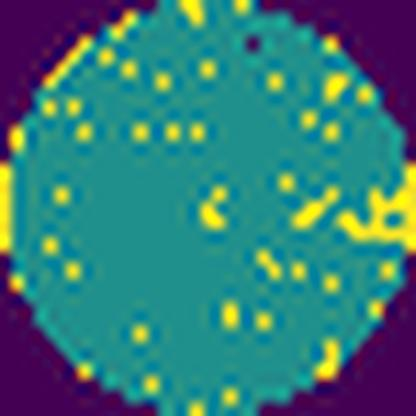Loc: (338, 166, 416, 252)
